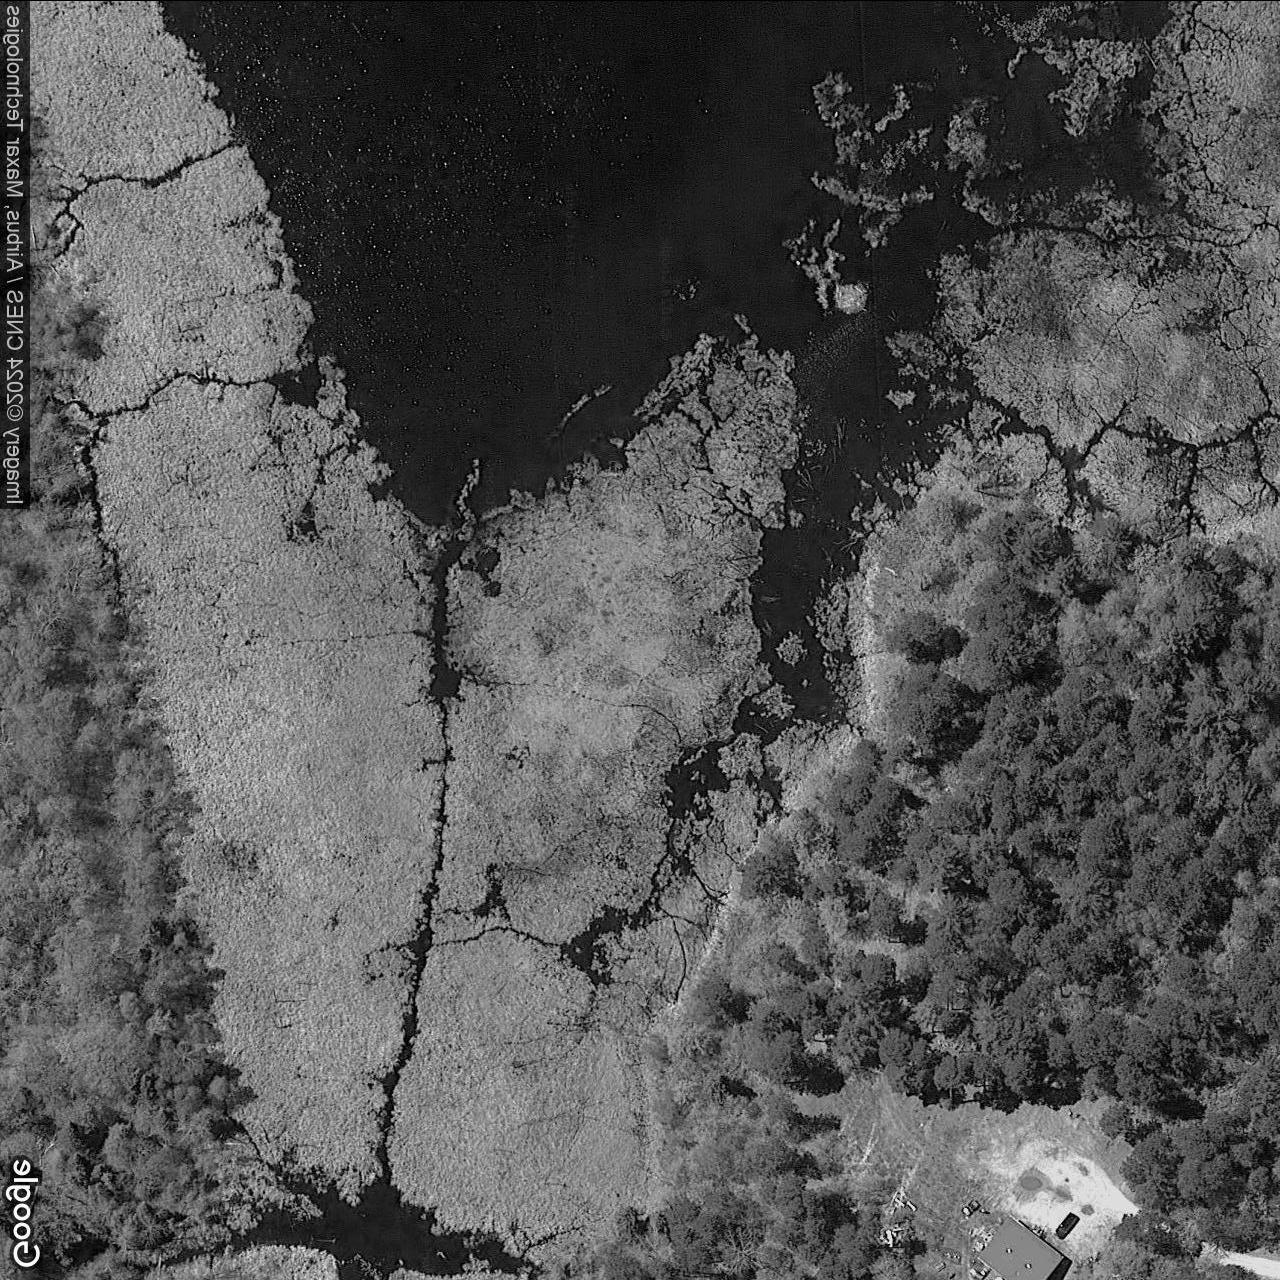House: (976, 1213, 1067, 1280)
Propane: (904, 1197, 919, 1212)
